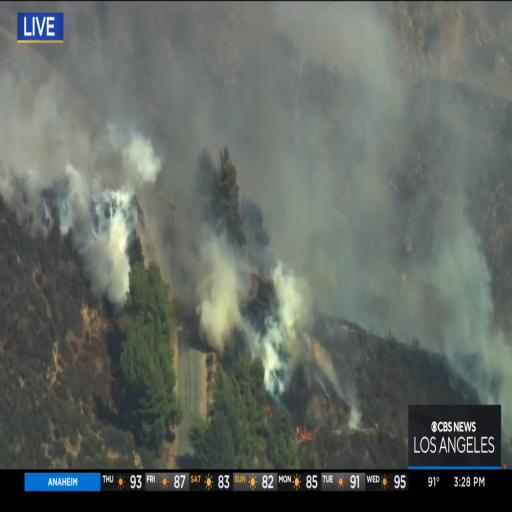smoke: (455, 250, 489, 332), (195, 263, 236, 330), (92, 238, 130, 306), (125, 131, 163, 186), (257, 340, 290, 380)
